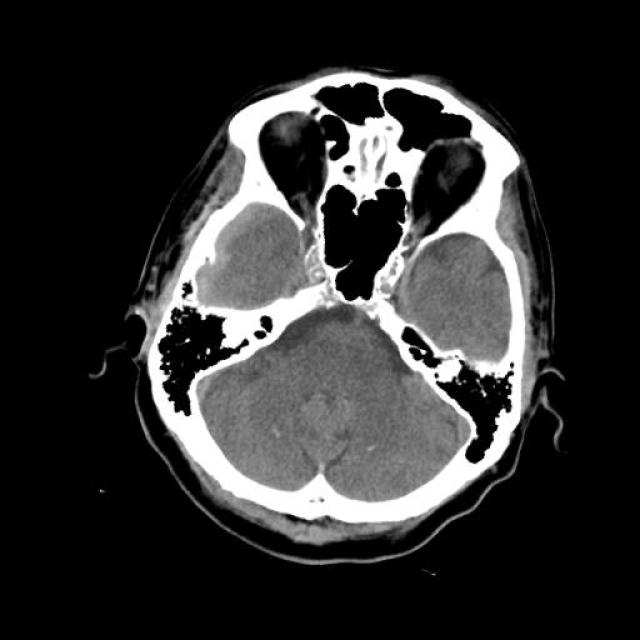Subdural: (174, 184, 275, 326)
